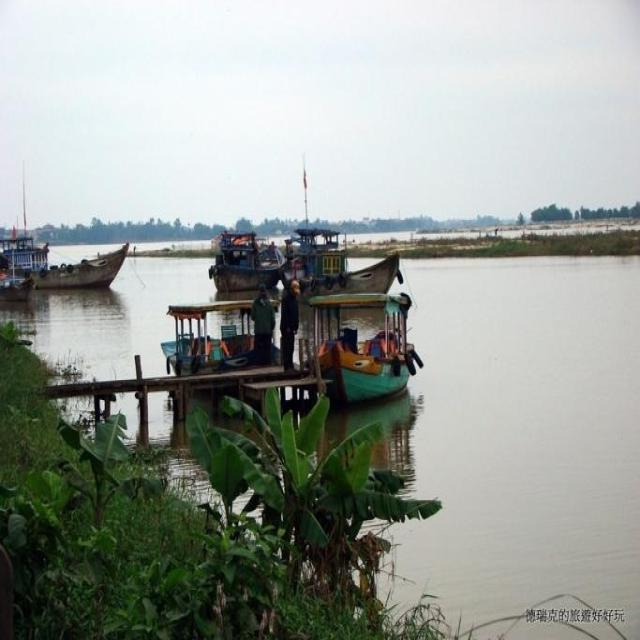boat: (147, 288, 314, 413), (300, 280, 429, 414), (288, 219, 412, 304), (0, 230, 140, 300), (205, 230, 282, 299)
